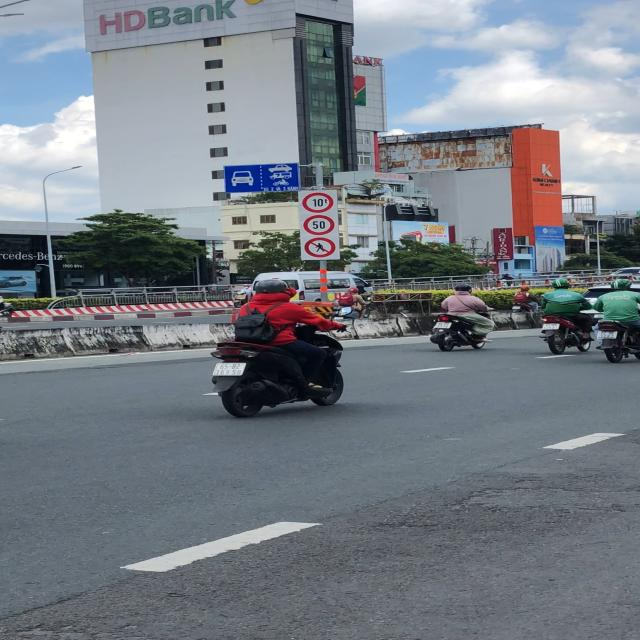Bien bao cam nguoi di bo: (302, 236, 339, 259)
Bien bao toc do toi da cho phep: (303, 213, 338, 236)
